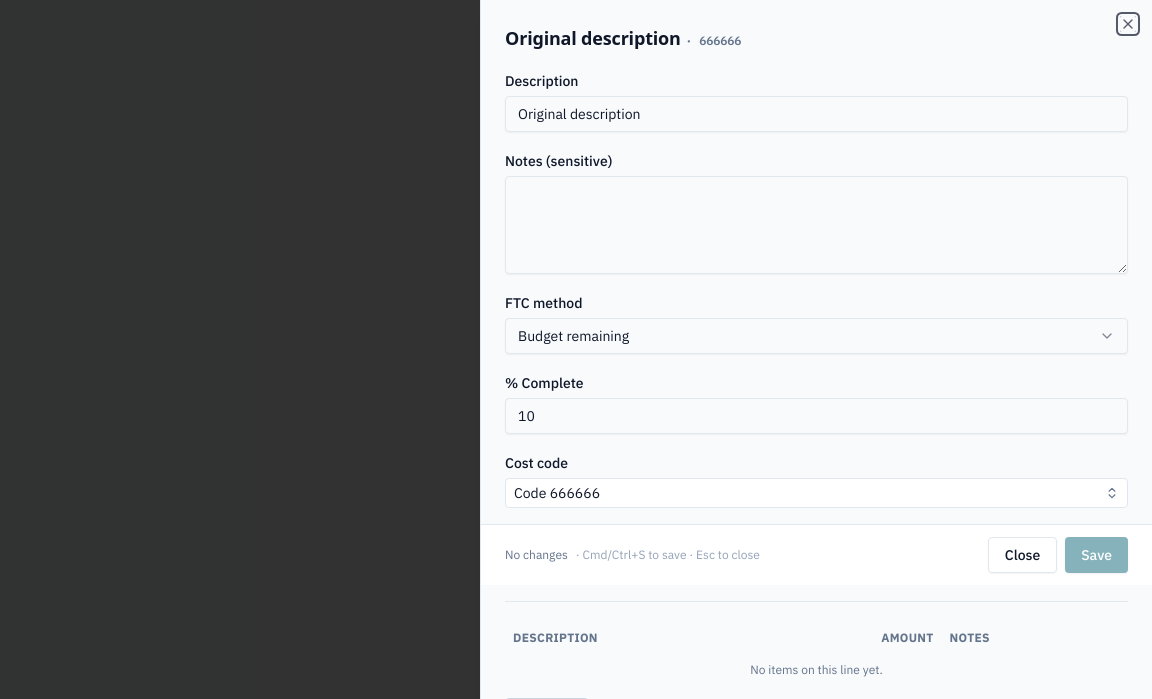
Test: LineDrawer — discard-on-dirty close › clicking Close with unsaved changes opens the discard dialog
Replace the text in the field with test id "line-drawer-description" with "Dirty" at (816, 114), box left=505, top=96, right=1128, bottom=132
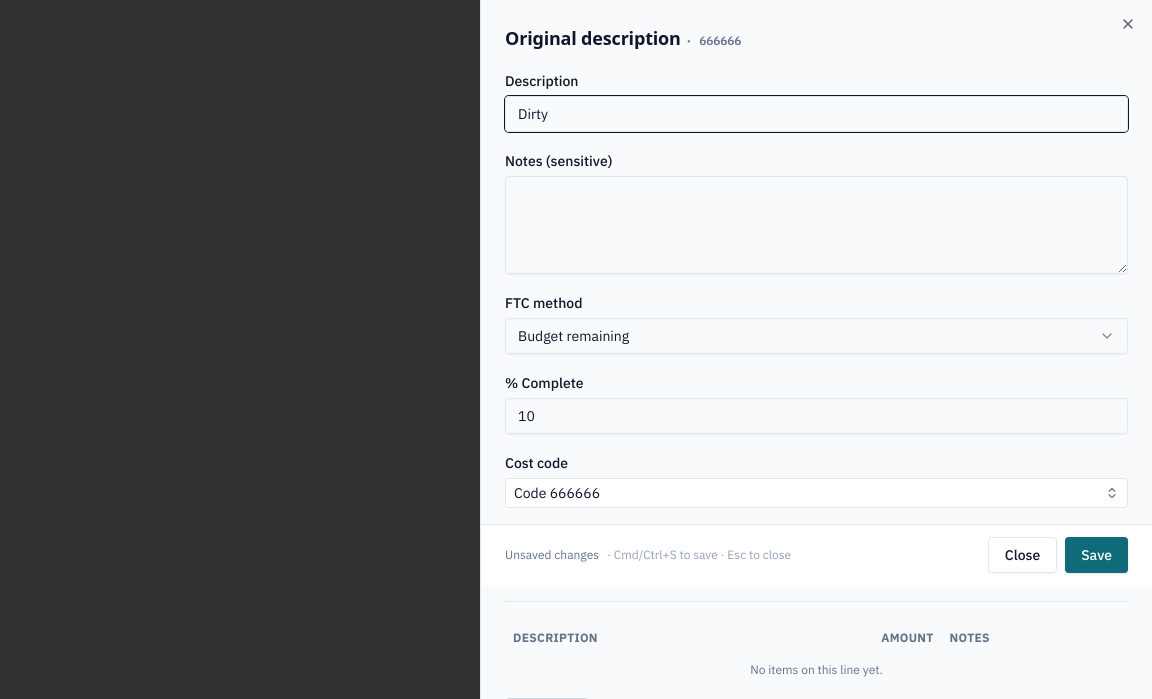
Click the button with test id "line-drawer-close" at (1022, 555), box left=988, top=537, right=1057, bottom=573
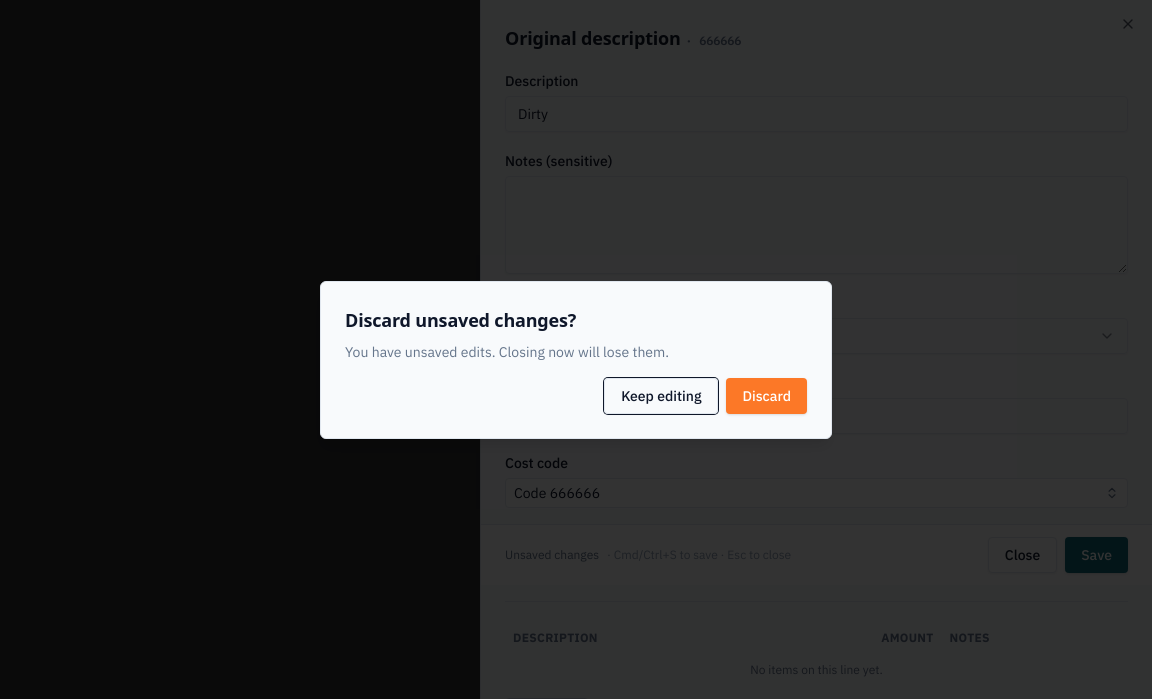
Expected: the dialog with test id "line-drawer-discard-dialog" is shown, left=320, top=281, right=832, bottom=439
